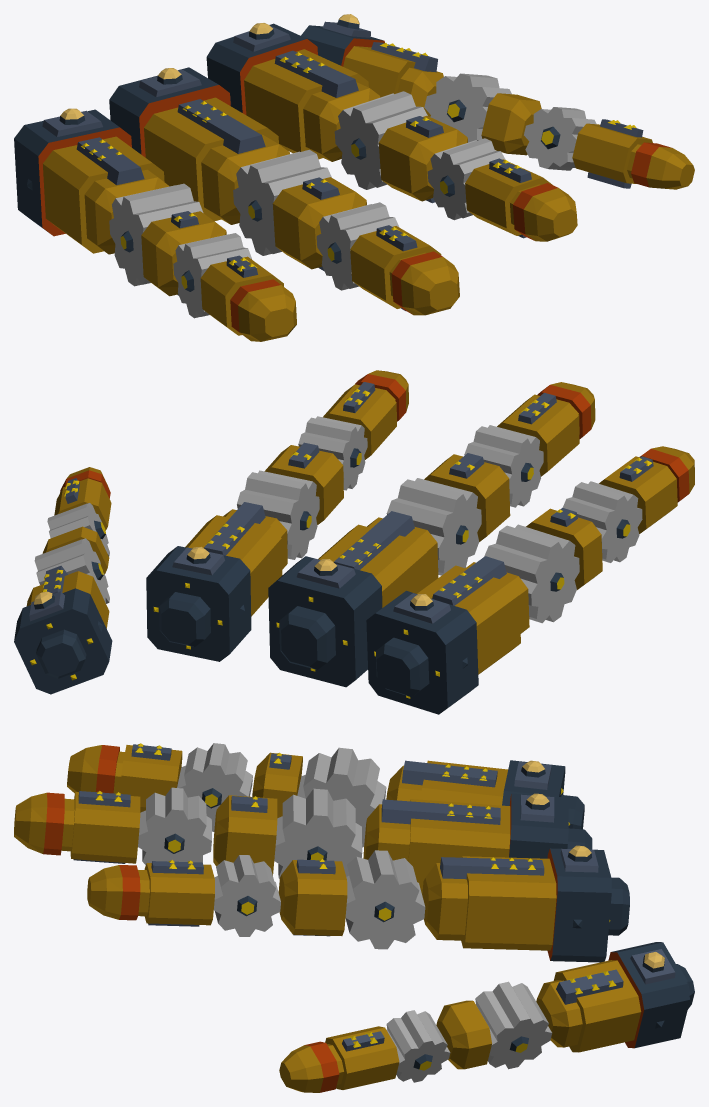
File: small-pipe-joint-e037a0.glb
The picture shows the model from 3 angles, top to bottom: view 1: azimuth 30°, elevation 25°; view 2: azimuth 150°, elevation 25°; view 3: azimuth 270°, elevation 25°; orthographic projection. The views are drawn at different scales.
Visible parts, largest first — view 1: middle-finger-phalanx-proximal, index-finger-phalanx-proximal, ring-finger-phalanx-proximal, middle-finger-phalanx-distal, ring-finger-phalanx-distal, middle-finger-phalanx-intermediate, pinky-finger-phalanx-distal, ring-finger-phalanx-intermediate, index-finger-phalanx-distal, index-finger-phalanx-intermediate, pinky-finger-phalanx-proximal, pinky-finger-phalanx-intermediate; view 2: middle-finger-phalanx-proximal, index-finger-phalanx-proximal, ring-finger-phalanx-proximal, pinky-finger-phalanx-proximal, middle-finger-phalanx-intermediate, middle-finger-phalanx-distal, index-finger-phalanx-intermediate, index-finger-phalanx-distal, ring-finger-phalanx-intermediate, ring-finger-phalanx-distal, pinky-finger-phalanx-distal, pinky-finger-phalanx-intermediate; view 3: ring-finger-phalanx-proximal, pinky-finger-phalanx-proximal, middle-finger-phalanx-distal, middle-finger-phalanx-proximal, ring-finger-phalanx-distal, ring-finger-phalanx-intermediate, middle-finger-phalanx-intermediate, pinky-finger-phalanx-distal, index-finger-phalanx-distal, pinky-finger-phalanx-intermediate, index-finger-phalanx-proximal, index-finger-phalanx-intermediate.
Boxes of the visible parts, left/top/right/bottom form: middle-finger-phalanx-proximal: left=109, top=67, right=289, bottom=224; index-finger-phalanx-proximal: left=14, top=108, right=169, bottom=254; ring-finger-phalanx-proximal: left=206, top=23, right=380, bottom=161; middle-finger-phalanx-distal: left=316, top=202, right=459, bottom=315; ring-finger-phalanx-distal: left=427, top=138, right=577, bottom=241; middle-finger-phalanx-intermediate: left=233, top=149, right=366, bottom=270; pinky-finger-phalanx-distal: left=524, top=107, right=694, bottom=189; ring-finger-phalanx-intermediate: left=334, top=91, right=467, bottom=203; index-finger-phalanx-distal: left=173, top=233, right=296, bottom=341; index-finger-phalanx-intermediate: left=109, top=183, right=226, bottom=296; pinky-finger-phalanx-proximal: left=301, top=14, right=443, bottom=116; pinky-finger-phalanx-intermediate: left=424, top=73, right=541, bottom=155; middle-finger-phalanx-proximal: left=268, top=511, right=438, bottom=687; index-finger-phalanx-proximal: left=366, top=556, right=529, bottom=714; ring-finger-phalanx-proximal: left=146, top=502, right=287, bottom=661; pinky-finger-phalanx-proximal: left=14, top=565, right=112, bottom=694; middle-finger-phalanx-intermediate: left=386, top=453, right=510, bottom=575; middle-finger-phalanx-distal: left=464, top=382, right=595, bottom=507; index-finger-phalanx-intermediate: left=484, top=507, right=602, bottom=623; index-finger-phalanx-distal: left=563, top=446, right=694, bottom=562; ring-finger-phalanx-intermediate: left=237, top=442, right=343, bottom=559; ring-finger-phalanx-distal: left=298, top=370, right=408, bottom=490; pinky-finger-phalanx-distal: left=47, top=467, right=111, bottom=556; pinky-finger-phalanx-intermediate: left=34, top=526, right=109, bottom=603; ring-finger-phalanx-proximal: left=422, top=845, right=629, bottom=962; pinky-finger-phalanx-proximal: left=536, top=942, right=694, bottom=1052; middle-finger-phalanx-distal: left=14, top=787, right=211, bottom=864; middle-finger-phalanx-proximal: left=363, top=793, right=592, bottom=894; ring-finger-phalanx-distal: left=87, top=855, right=280, bottom=936; ring-finger-phalanx-intermediate: left=278, top=850, right=425, bottom=949; middle-finger-phalanx-intermediate: left=213, top=788, right=362, bottom=878; pinky-finger-phalanx-distal: left=279, top=1010, right=450, bottom=1092; index-finger-phalanx-distal: left=67, top=743, right=252, bottom=831; pinky-finger-phalanx-intermediate: left=436, top=981, right=552, bottom=1069; index-finger-phalanx-proximal: left=386, top=760, right=584, bottom=829; index-finger-phalanx-intermediate: left=252, top=747, right=386, bottom=847.
Size of the model in its own units: 0.1187 by 0.0307 by 0.1312.
